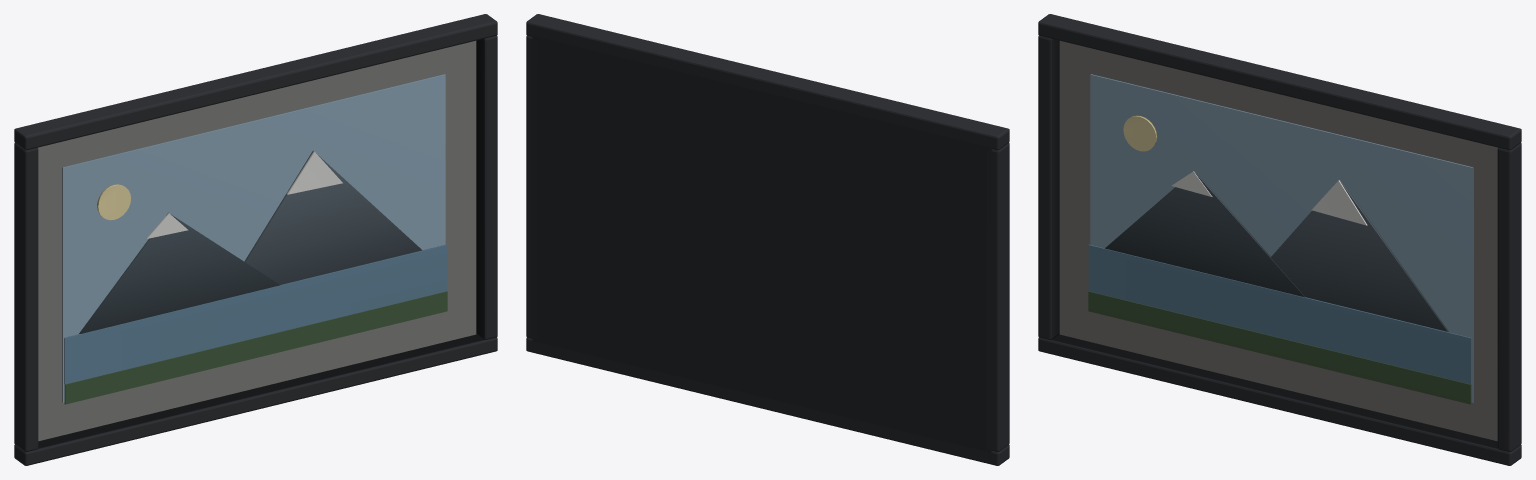
Rendered from photoPrint.glb.
The picture shows the model from 3 angles, left to right: view 1: azimuth 30°, elevation 25°; view 2: azimuth 150°, elevation 25°; view 3: azimuth 330°, elevation 25°; orthographic projection.
Parts seen in each view (by area): view 1: photoPrint; view 2: photoPrint; view 3: photoPrint.
Part boxes in pixels (bbox=[...]): photoPrint: bbox=[14, 14, 497, 465]; photoPrint: bbox=[526, 14, 1009, 465]; photoPrint: bbox=[1038, 14, 1521, 465].
Bounding box in the file's own units: 0.75 × 0.5 × 0.033.
